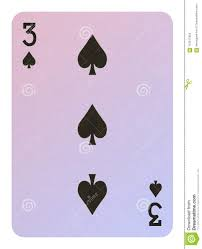three of spades: (13, 12, 173, 235)
